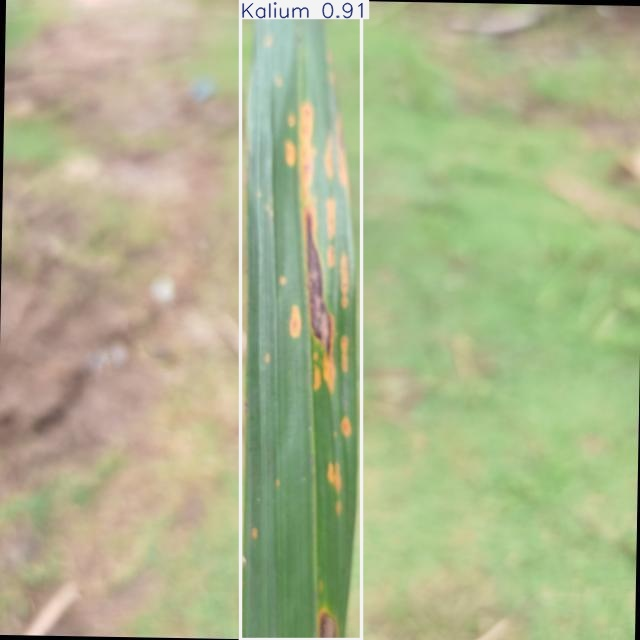Kalium: (241, 0, 362, 640)
